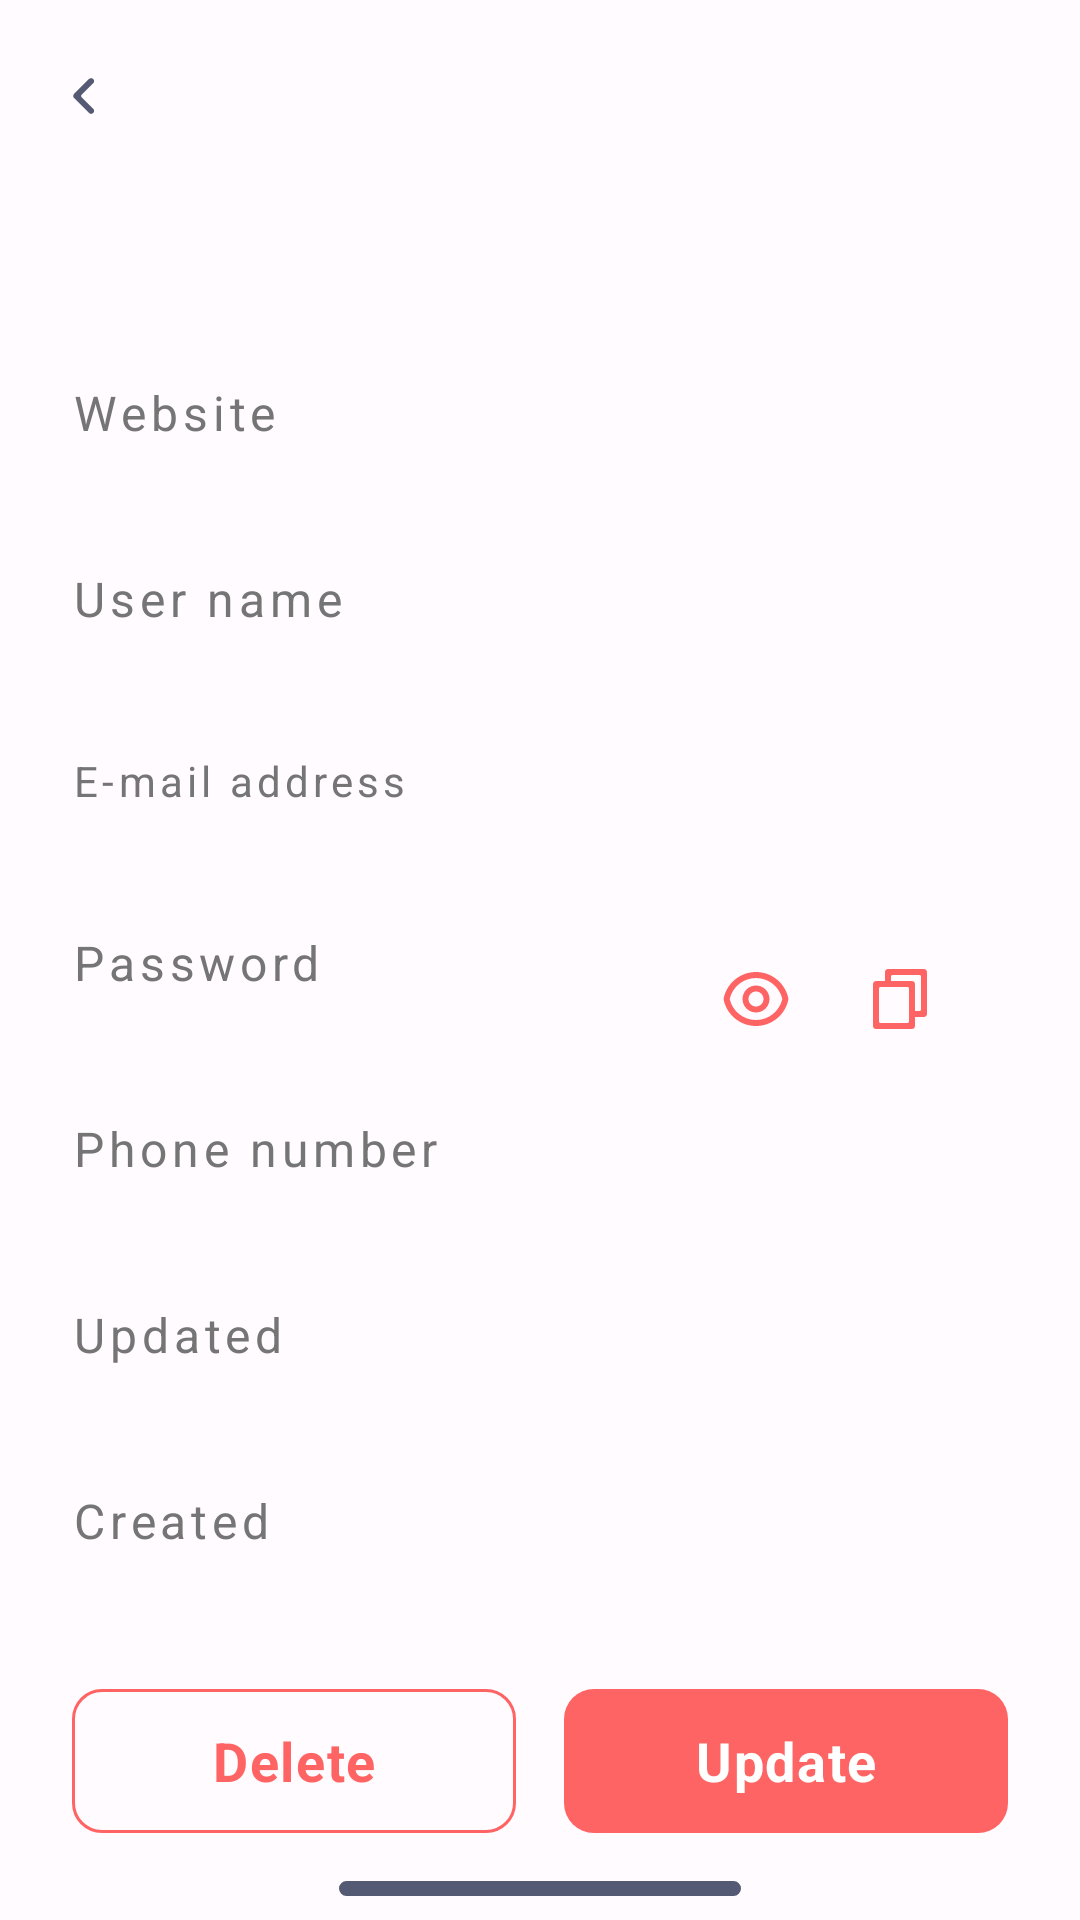

Icons on this 1080w x 1920h Android screen, each with the point to tap as (x=x, y=y):
password toggle: (x=756, y=999)
